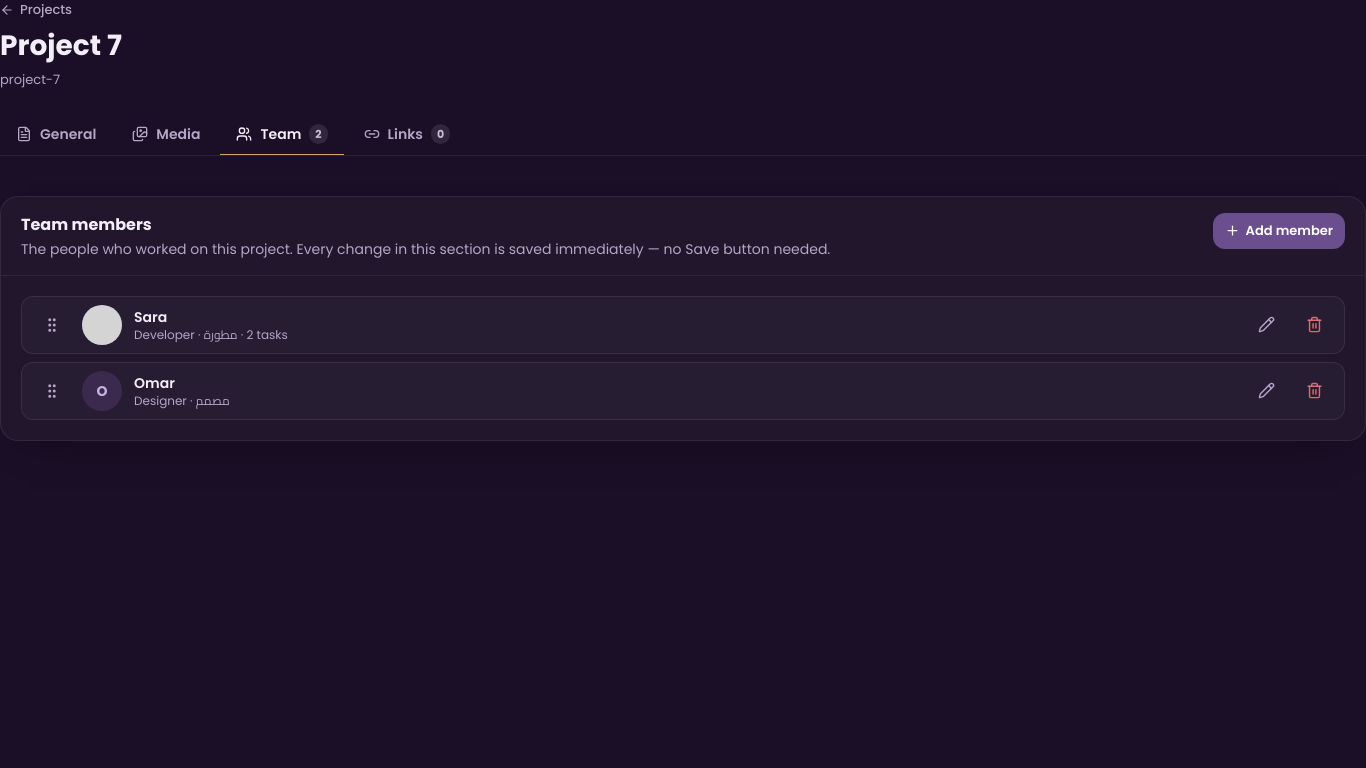
Test: Team tab › add › validates the required fields inside the dialog and sends nothing
This screenshot has width=1366, height=768.
Check: the list named "Team members" is shown, box x1=21 y1=296 x2=1345 y2=420
Click the button "Add member" at (1279, 231), box x1=1213 y1=213 x2=1345 y2=249
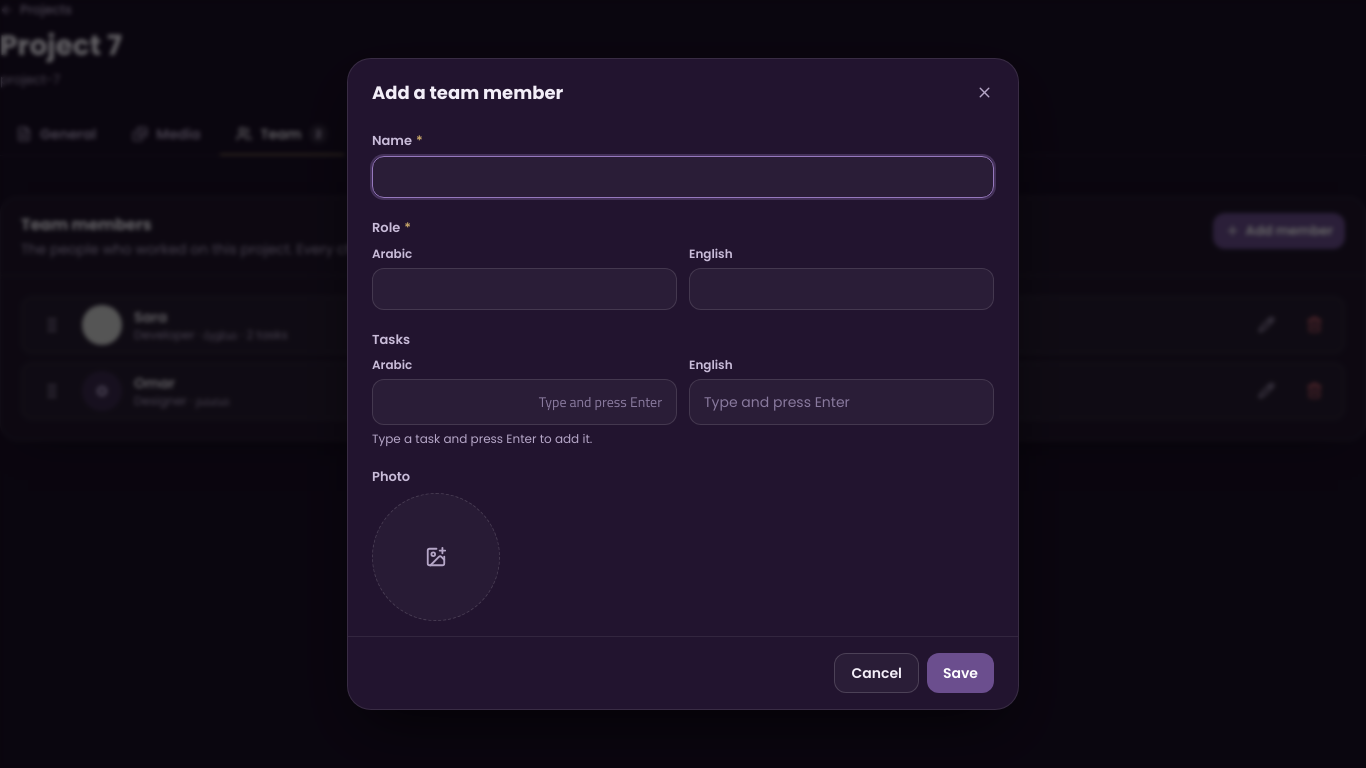
Click the button "Save" at (960, 673), box x1=927 y1=653 x2=994 y2=693
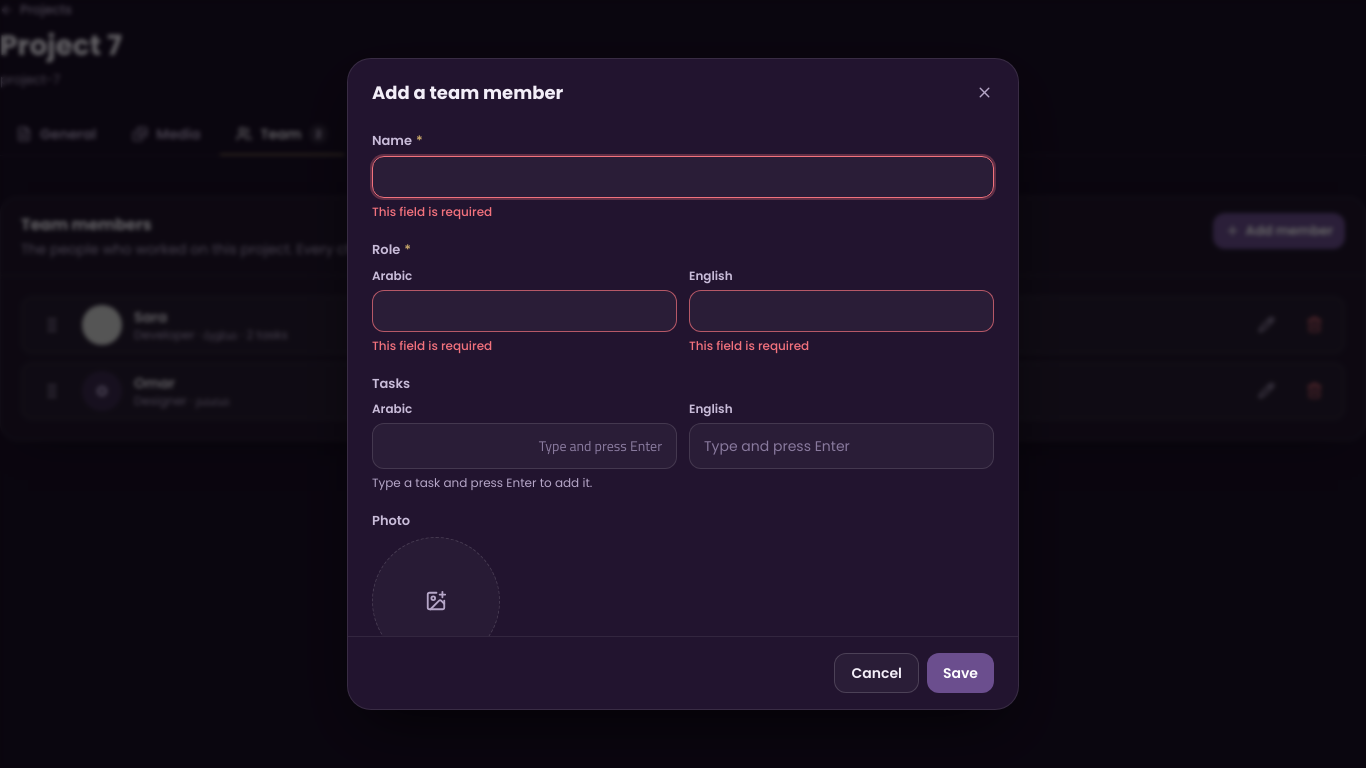
Check: the text "This field is required" is shown 3 times, box x1=372 y1=203 x2=492 y2=220; x1=372 y1=337 x2=492 y2=354; x1=689 y1=337 x2=809 y2=354
